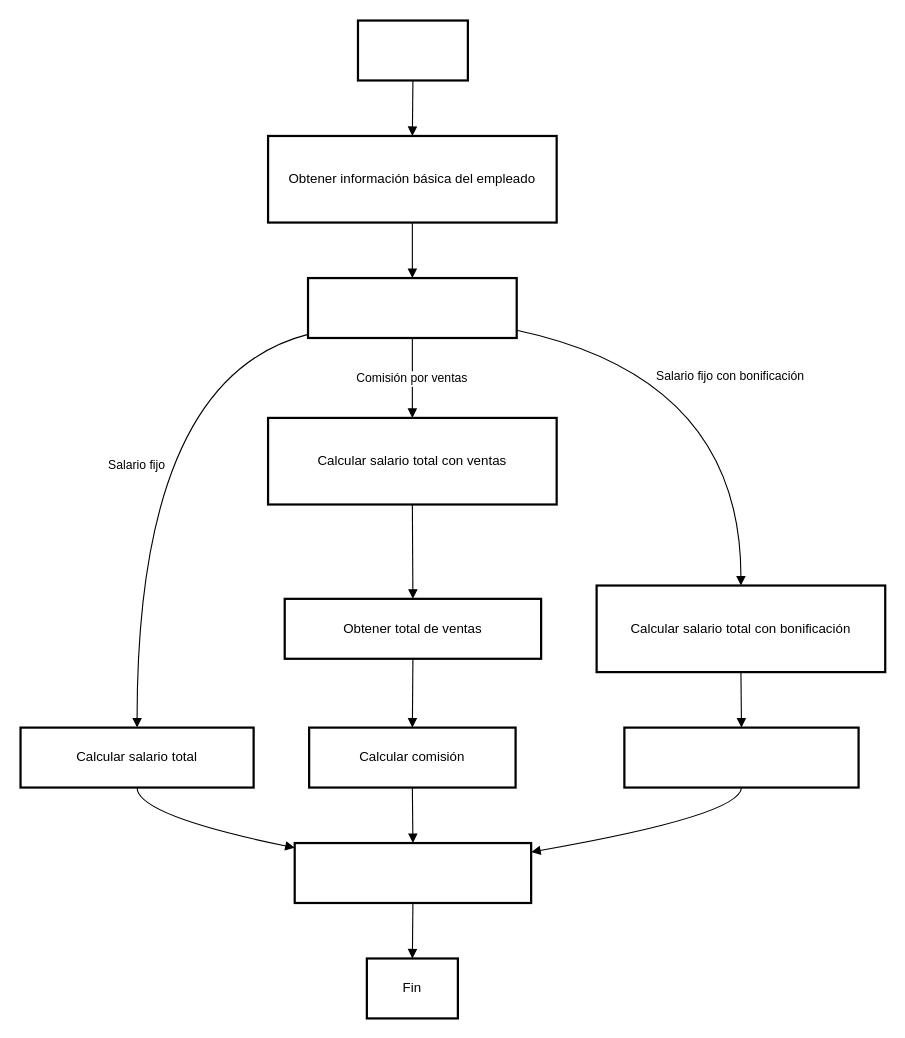
The diagram is 905 pixels wide and 1038 high, and some of its shapes have lost their labels. Each missing label, with the centre of its shape:
"Inicio" goes at pixel 412 50.
"Obtener bonificación" goes at pixel 741 757.
"Retornar salario total" goes at pixel 412 872.
"Tipo de empleado" goes at pixel 411 307.
